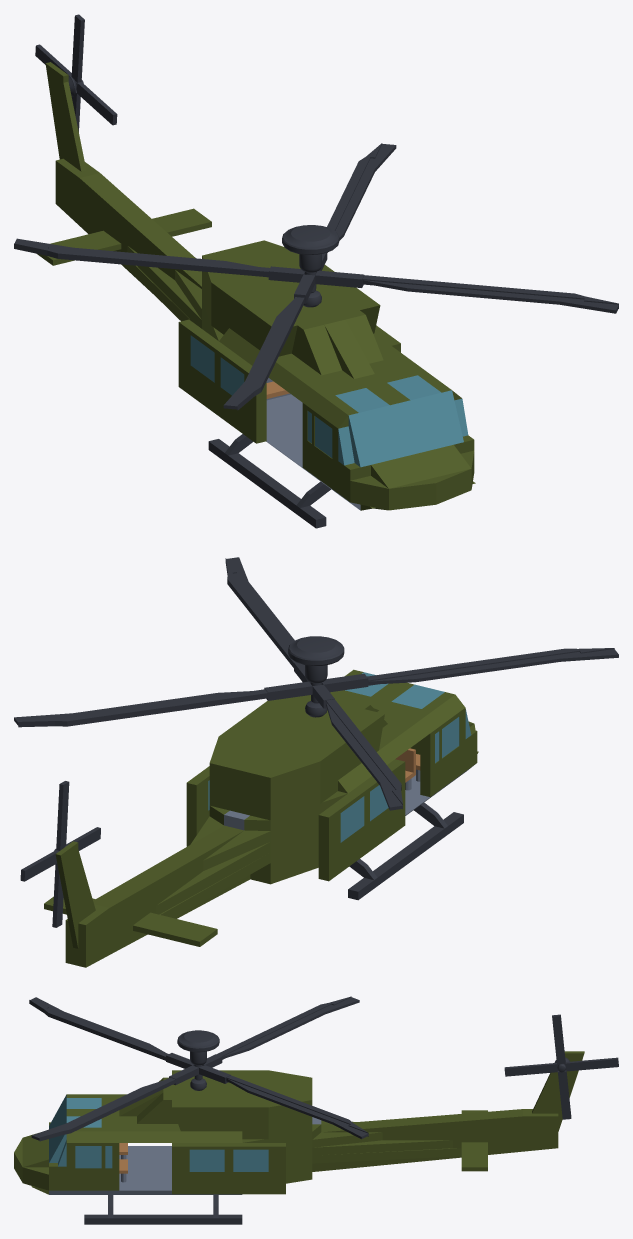
Rendered from War_Helicopter.fbx.
The picture shows the model from 3 angles, top to bottom: view 1: azimuth 30°, elevation 25°; view 2: azimuth 150°, elevation 25°; view 3: azimuth 270°, elevation 25°; orthographic projection. The views are drawn at different scales.
Visible parts, largest first — view 1: War_Helicopter; view 2: War_Helicopter; view 3: War_Helicopter.
Part boxes in pixels (x1,y1,x2,y2): War_Helicopter: (14,14,618,528); War_Helicopter: (14,557,618,967); War_Helicopter: (14,996,618,1224).
Bounding box in the file's own units: 1977 × 3544 × 1215.
